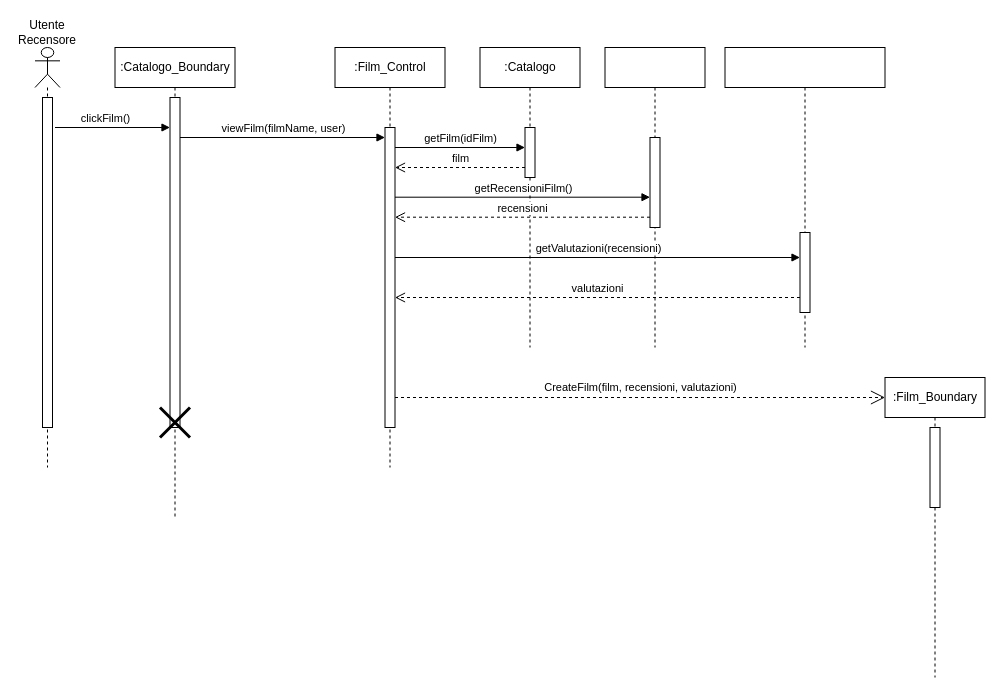
Some shapes in this 1002 by 695 pixel diagram are drawn without their labels. Each missing label, with the centre of its shape:
film:Film: the point at 654,197
user:Utente_Recensore: the point at 804,197
